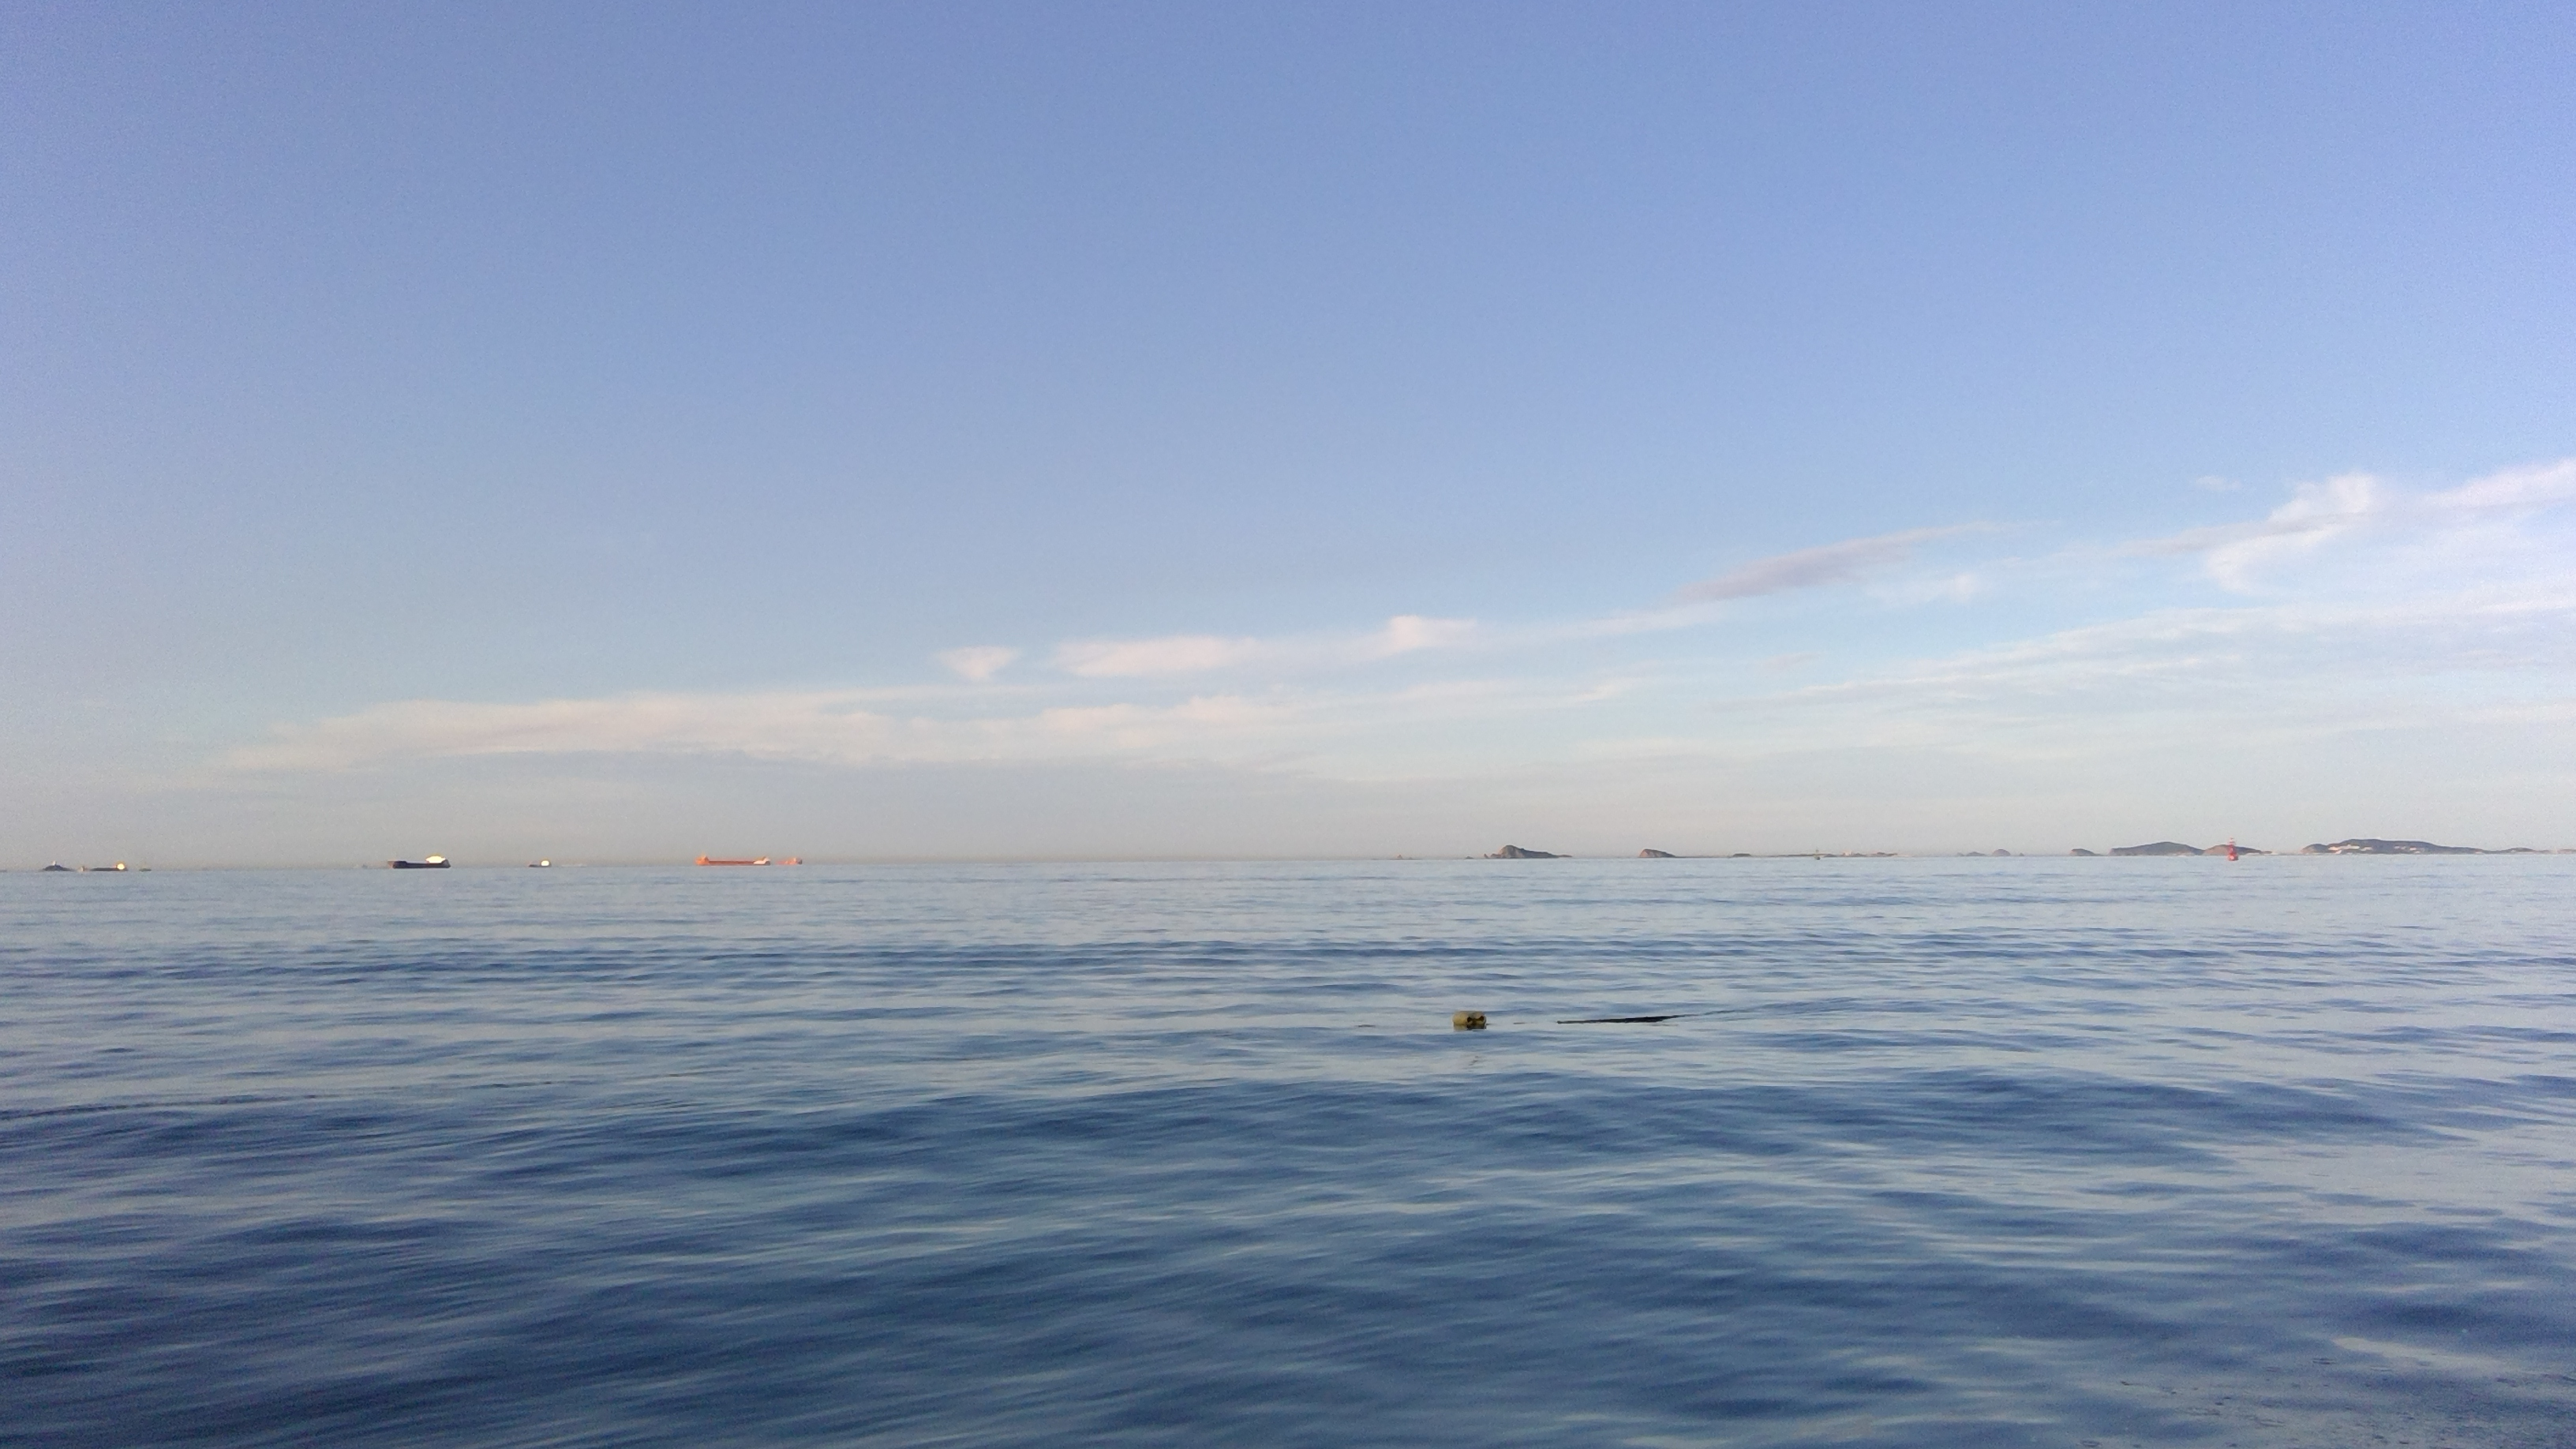buoy: (2212, 817, 2250, 879)
platform: (695, 849, 803, 870)
rock: (2309, 828, 2576, 865), (1615, 828, 1744, 872), (2082, 837, 2259, 863), (1470, 835, 1566, 863), (1440, 1003, 1500, 1042)
ship: (380, 846, 460, 872)
